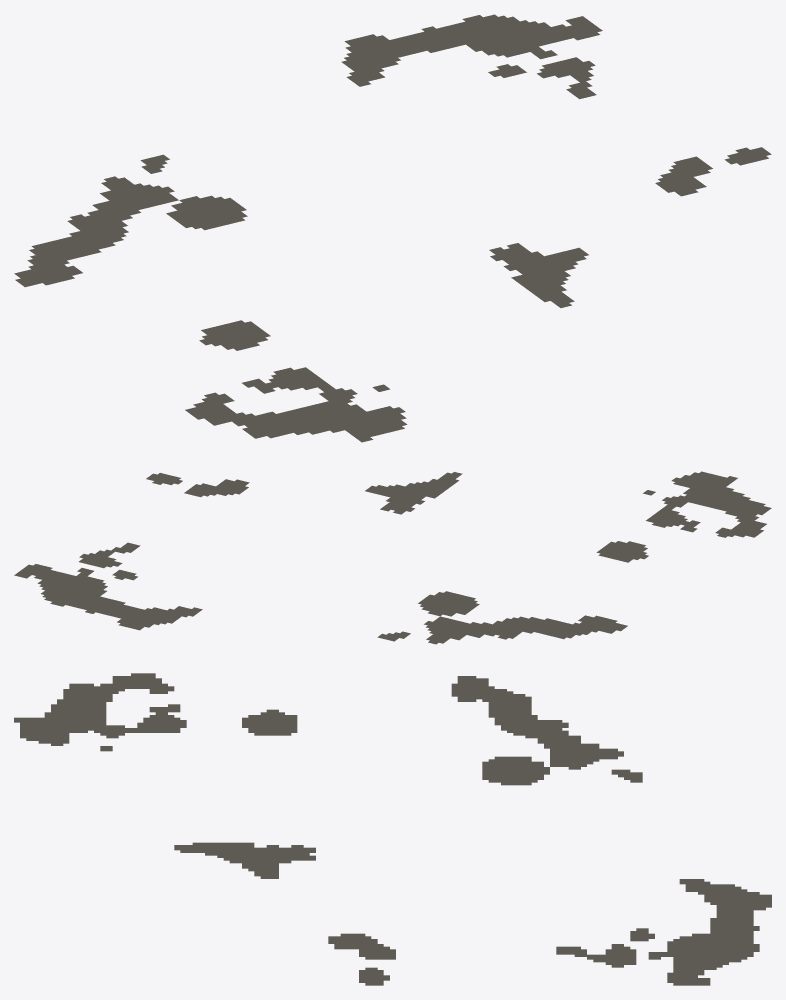
The model's file is Isl-bot2-NoBuildArea.fbx.
The picture shows the model from 3 angles, top to bottom: view 1: azimuth 30°, elevation 25°; view 2: azimuth 150°, elevation 25°; view 3: azimuth 270°, elevation 25°; orthographic projection. The views are drawn at different scales.
Visible parts, largest first — view 1: Isl-bot2-NoBuildArea; view 2: Isl-bot2-NoBuildArea; view 3: Isl-bot2-NoBuildArea.
Part boxes in pixels (<box>): Isl-bot2-NoBuildArea: <box>14,14,771,442</box>; Isl-bot2-NoBuildArea: <box>14,471,771,644</box>; Isl-bot2-NoBuildArea: <box>14,673,771,985</box>.
Bounding box in the file's own units: 120 × 0 × 123.
